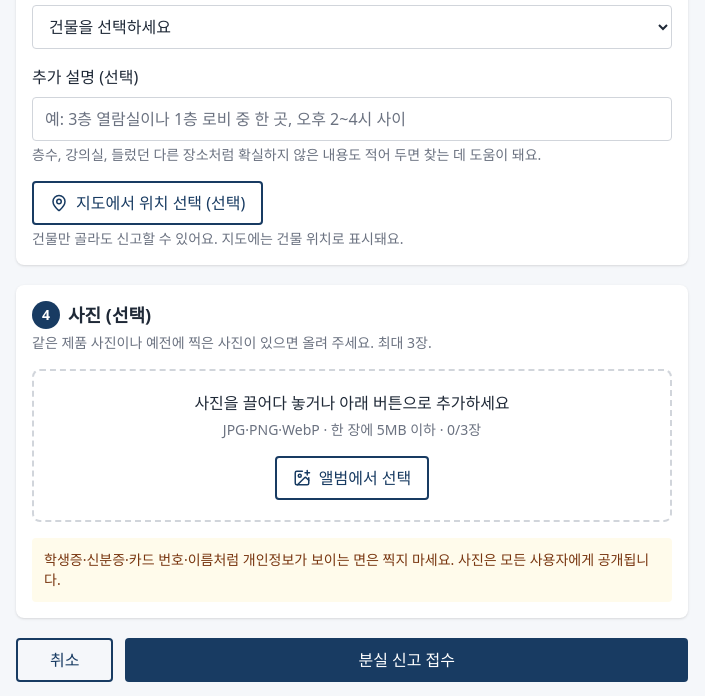
Test: ReportLostPage › 대표 위치가 없으면 보내지 않고 오류를 보여준다
The image size is (705, 696).
(page scrolled)
Click the button "분실 신고 접수": (407, 660) [126,638,688,682]
(page scrolled)
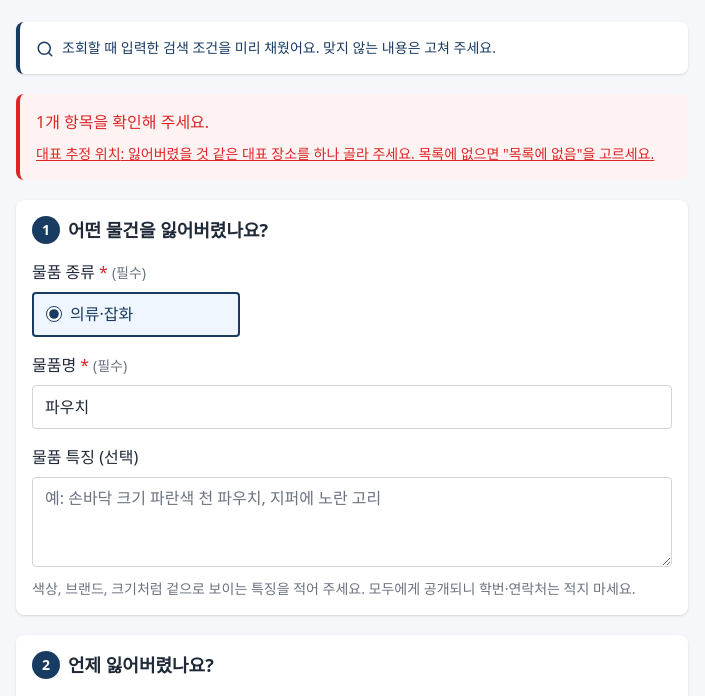
Check: the button "대표 장소를 하나 골라 주세요" is shown, box [36,144,654,164]
